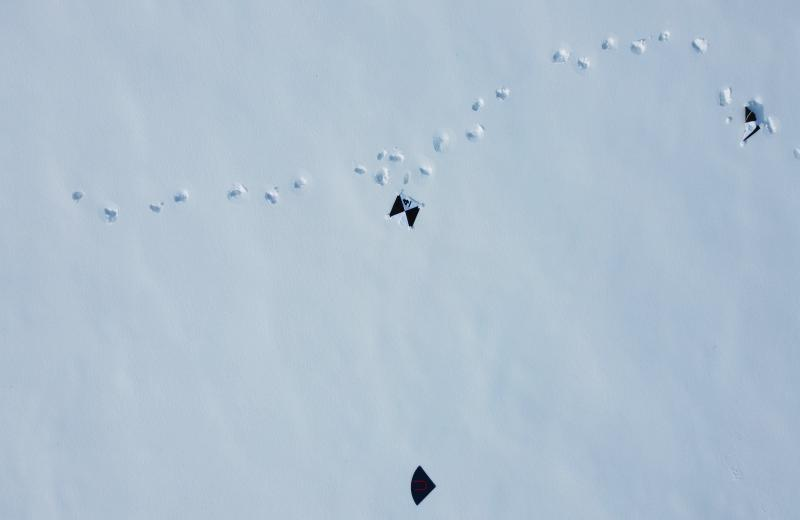Quarter Circle: (406, 457, 442, 510)
